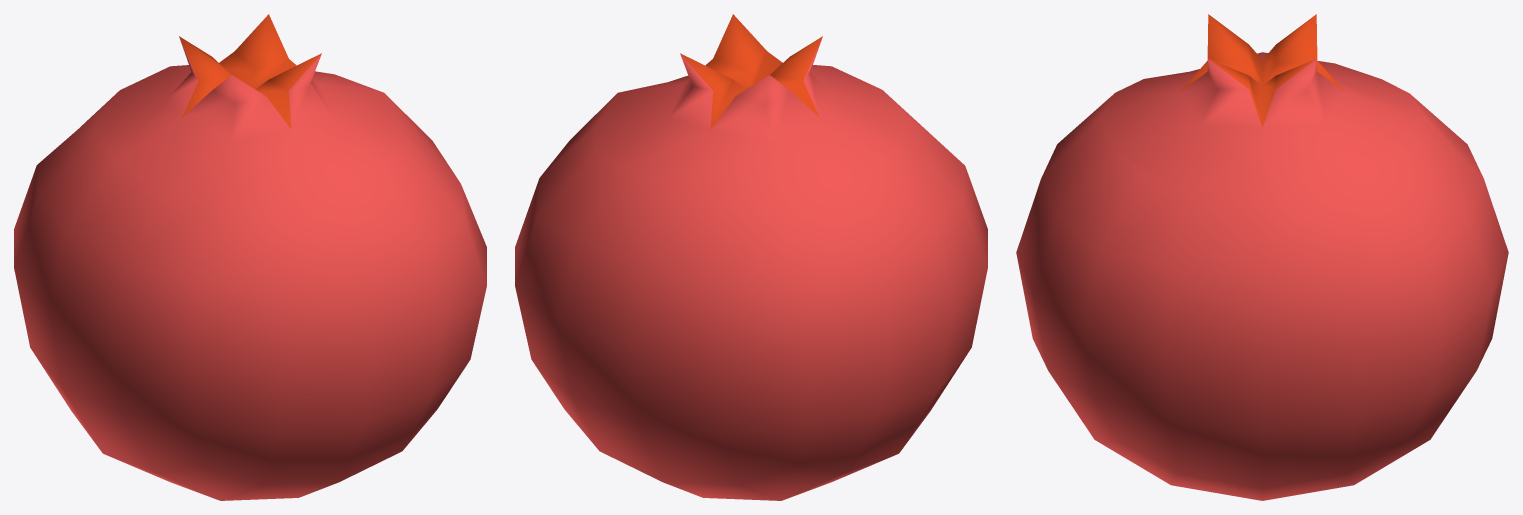
Rendered from pomegranate.fbx.
3 renders of one model, left to right at view 1: azimuth 30°, elevation 25°; view 2: azimuth 150°, elevation 25°; view 3: azimuth 270°, elevation 25°, orthographic.
Visible parts, largest first — view 1: pomegranate; view 2: pomegranate; view 3: pomegranate.
Part boxes in pixels (x1,y1,x2,y2): pomegranate: (14, 14, 486, 500); pomegranate: (515, 14, 987, 500); pomegranate: (1016, 14, 1508, 500).
Bounding box in the file's own units: 210 × 214 × 218.
